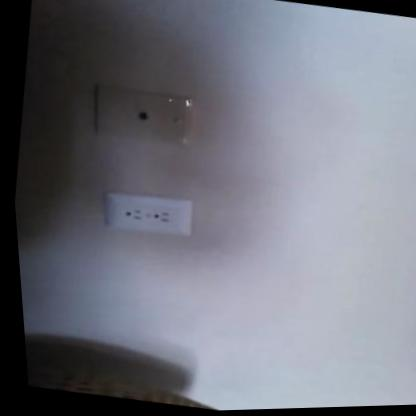OUTLET: (100, 187, 196, 240)
